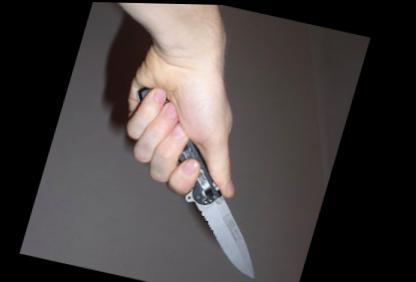knife: (118, 100, 308, 279)
